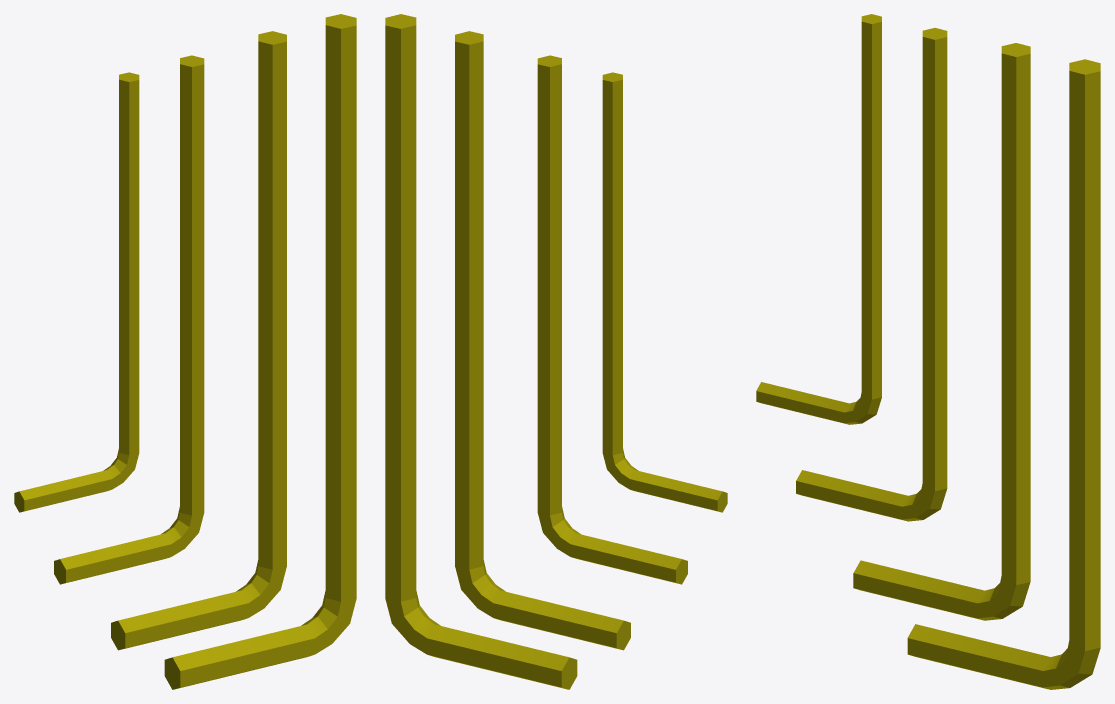
The model's file is AllenKeys.fbx.
3 views of the same model, side by side, from view 1: azimuth 30°, elevation 25°; view 2: azimuth 150°, elevation 25°; view 3: azimuth 330°, elevation 25° (orthographic).
Parts seen in each view (by area): view 1: Allen_Key_1, Allen_Key, Allen_Key_2, Allen_Key_3; view 2: Allen_Key_1, Allen_Key, Allen_Key_2, Allen_Key_3; view 3: Allen_Key_1, Allen_Key, Allen_Key_2, Allen_Key_3.
Part boxes in pixels (x1=…): Allen_Key_1: x1=164, y1=14, x2=356, y2=689; Allen_Key: x1=111, y1=31, x2=286, y2=650; Allen_Key_2: x1=54, y1=55, x2=204, y2=584; Allen_Key_3: x1=14, y1=72, x2=139, y2=512; Allen_Key_1: x1=385, y1=14, x2=577, y2=689; Allen_Key: x1=455, y1=31, x2=630, y2=650; Allen_Key_2: x1=537, y1=55, x2=687, y2=584; Allen_Key_3: x1=602, y1=72, x2=727, y2=512; Allen_Key_1: x1=907, y1=59, x2=1100, y2=689; Allen_Key: x1=853, y1=43, x2=1030, y2=620; Allen_Key_2: x1=796, y1=28, x2=947, y2=521; Allen_Key_3: x1=756, y1=14, x2=881, y2=424.
Bounding box in the file's own units: 0.2058 × 0.3659 × 0.0165.
